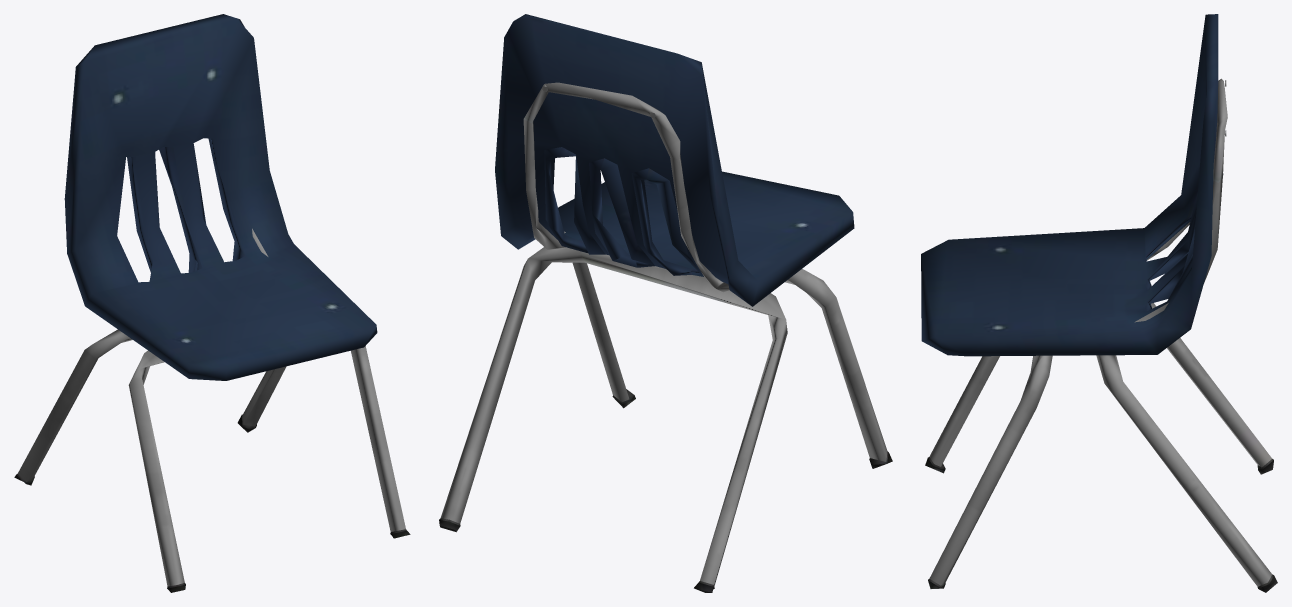
The model's file is schoolchair.glb.
3 views of the same model, side by side, from view 1: azimuth 30°, elevation 25°; view 2: azimuth 150°, elevation 25°; view 3: azimuth 270°, elevation 25° (orthographic). The views are drawn at different scales.
Parts seen in each view (by area): view 1: SchoolChair_01; view 2: SchoolChair_01; view 3: SchoolChair_01.
Part boxes in pixels (<box>): SchoolChair_01: <box>14,14,410,592</box>; SchoolChair_01: <box>439,14,892,592</box>; SchoolChair_01: <box>921,14,1277,592</box>.
Size of the model in its own units: 0.5659 by 1 by 0.6692.
Materials: 1 (1 with a texture image).
